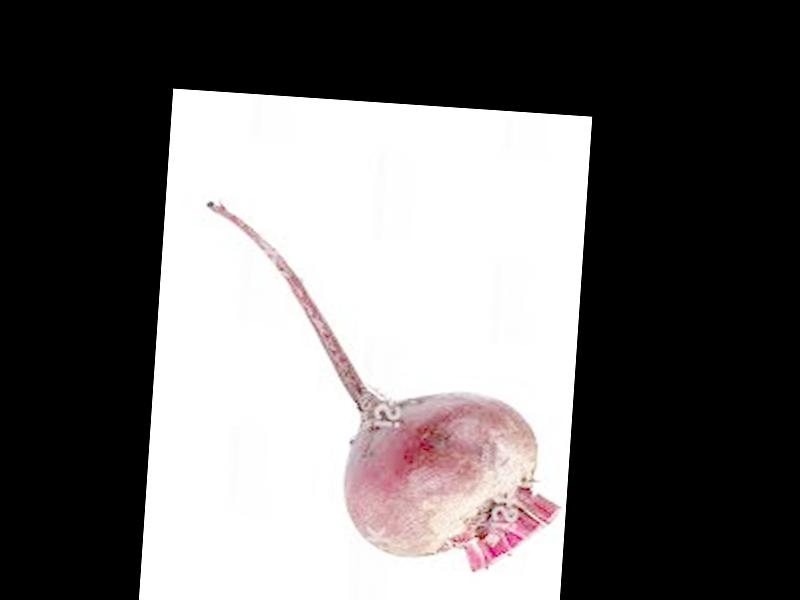Beet: (185, 200, 580, 575)
